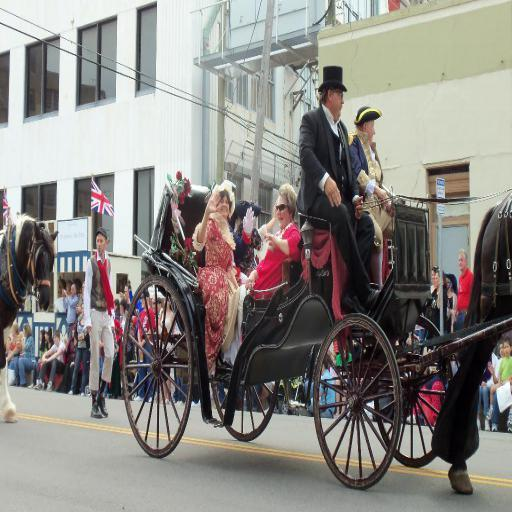horse: (432, 192, 512, 495), (0, 209, 60, 423)
